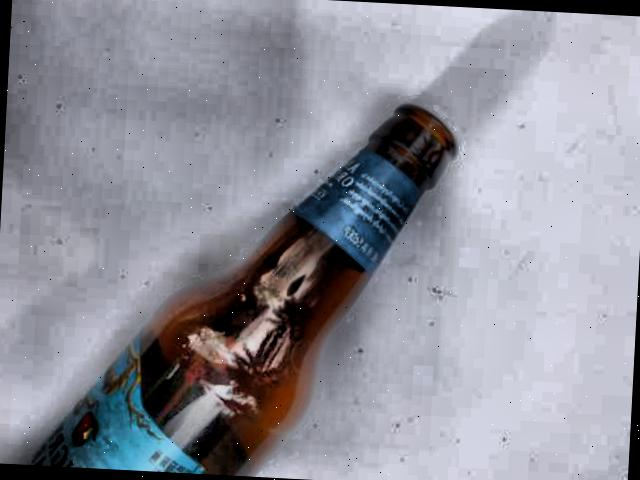Bottles: (0, 67, 476, 480)
